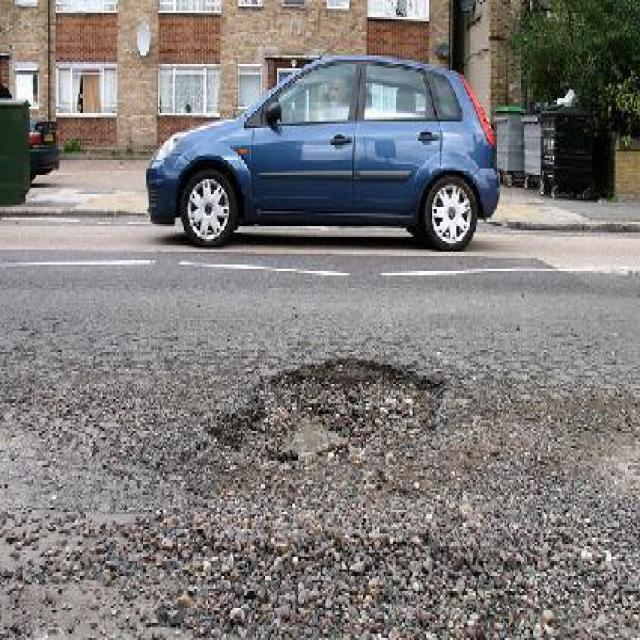pothole: (206, 352, 449, 467)
